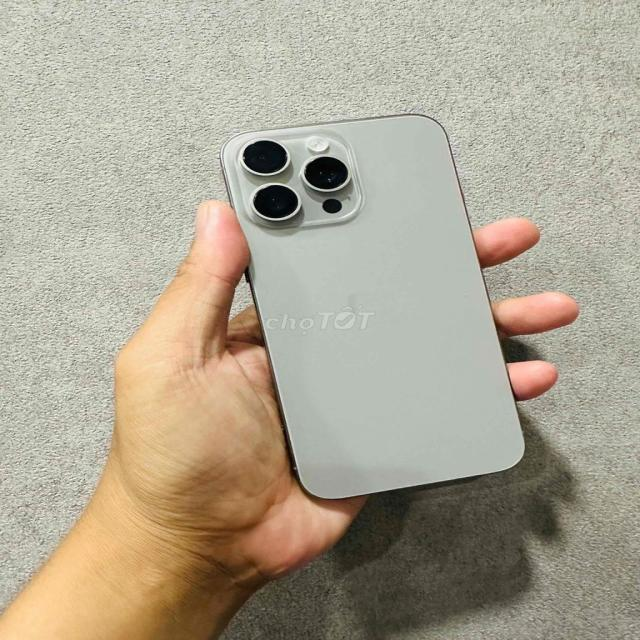scratch: (228, 135, 354, 221)
